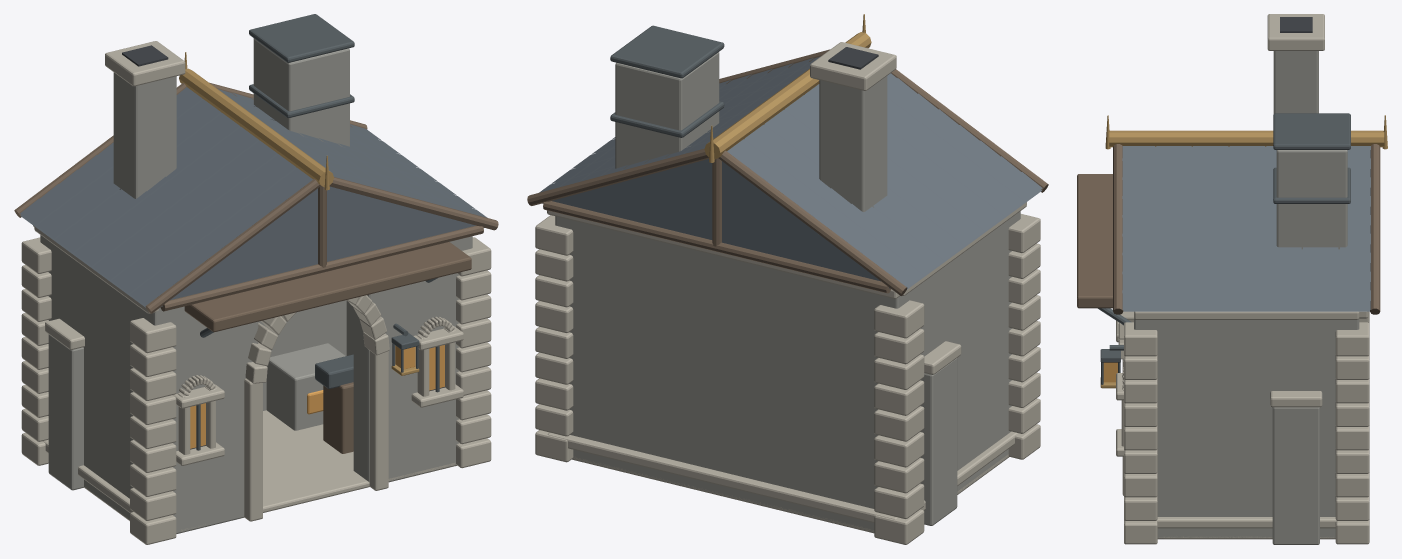
File: service_2.glb
3 renders of one model, left to right at view 1: azimuth 30°, elevation 25°; view 2: azimuth 150°, elevation 25°; view 3: azimuth 270°, elevation 25°, orthographic. The views are drawn at different scales.
Parts seen in each view (by area): view 1: Roof.002, Front.002, Body.002; view 2: Body.002, Roof.002, Front.002; view 3: Roof.002, Body.002, Front.002.
Boxes of the visible parts, bbox=[...] form: Roof.002: bbox=[14, 14, 498, 313]; Front.002: bbox=[130, 237, 491, 544]; Body.002: bbox=[21, 225, 472, 533]; Body.002: bbox=[535, 202, 1026, 544]; Roof.002: bbox=[527, 14, 1048, 295]; Front.002: bbox=[1005, 212, 1040, 459]; Roof.002: bbox=[1105, 14, 1387, 314]; Body.002: bbox=[1134, 311, 1369, 544]; Front.002: bbox=[1077, 174, 1163, 544].
Bounding box in the file's own units: 3.52 × 3.9 × 2.76.
